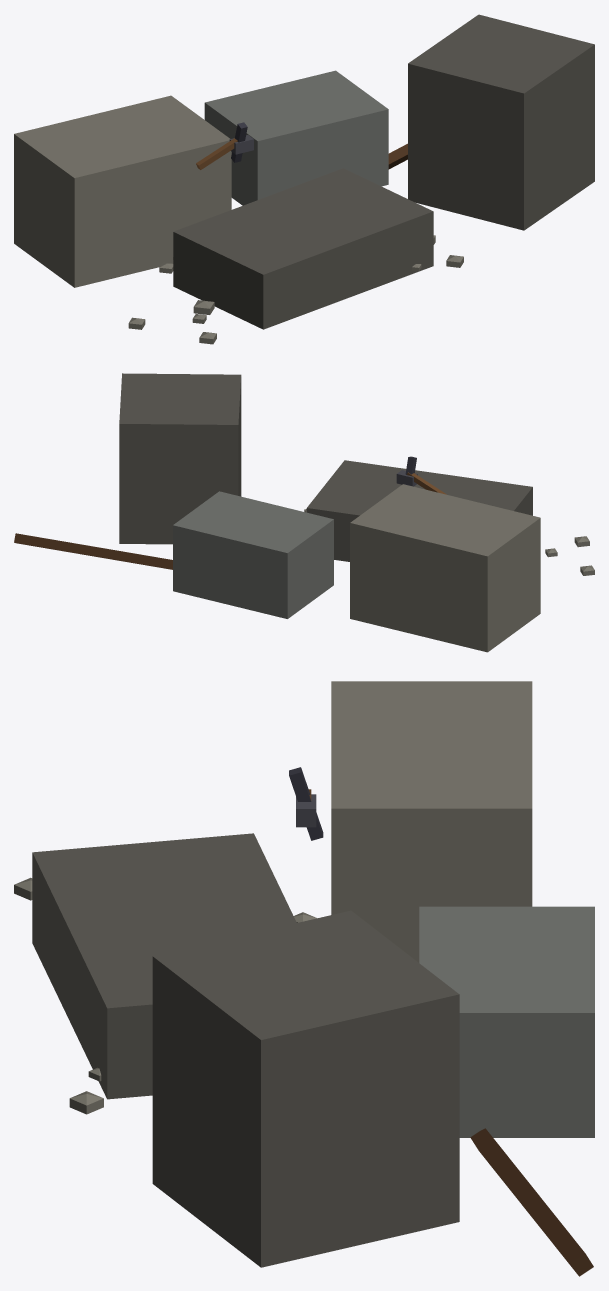
File: a2v_stone_cutter.glb
3 views of the same model, one above another, from view 1: azimuth 30°, elevation 25°; view 2: azimuth 150°, elevation 25°; view 3: azimuth 270°, elevation 25° (orthographic). The views are drawn at different scales.
Parts seen in each view (by area): view 1: a2v_stone_cutter; view 2: a2v_stone_cutter; view 3: a2v_stone_cutter.
Part boxes in pixels (box(x1,y1,x2,y2)): a2v_stone_cutter: box(14, 14, 594, 344); a2v_stone_cutter: box(14, 373, 594, 652); a2v_stone_cutter: box(14, 681, 594, 1276).
Bounding box in the file's own units: 4.04 × 1.05 × 2.31.
